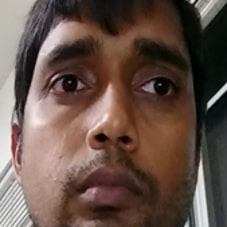awake: (34, 33, 192, 216)
